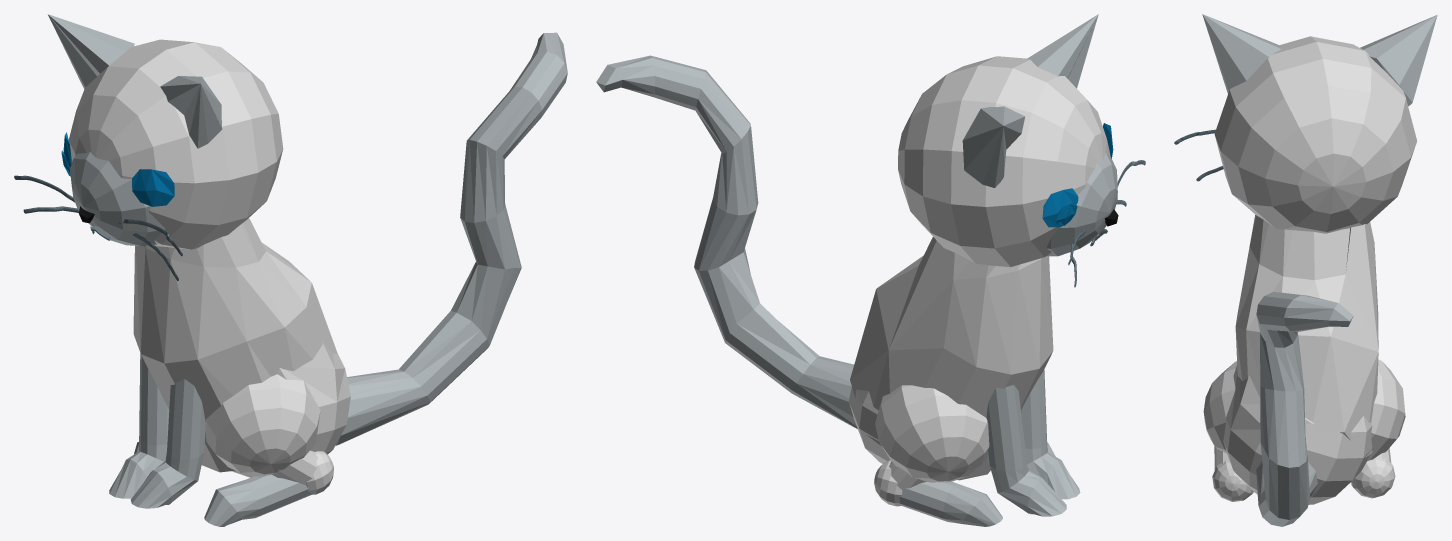
3 views of the same model, side by side, from view 1: azimuth 30°, elevation 25°; view 2: azimuth 150°, elevation 25°; view 3: azimuth 270°, elevation 25° (orthographic). The views are drawn at different scales.
Parts seen in each view (by area): view 1: node_MeshObject1536178112-PolyPaper15; view 2: node_MeshObject1536178112-PolyPaper15; view 3: node_MeshObject1536178112-PolyPaper15.
Part boxes in pixels (left/top/right/bottom): node_MeshObject1536178112-PolyPaper15: left=14, top=14, right=567, bottom=526; node_MeshObject1536178112-PolyPaper15: left=596, top=14, right=1145, bottom=526; node_MeshObject1536178112-PolyPaper15: left=1174, top=14, right=1437, bottom=526.
Size of the model in its own units: 1.31 by 1.14 by 0.6252.
